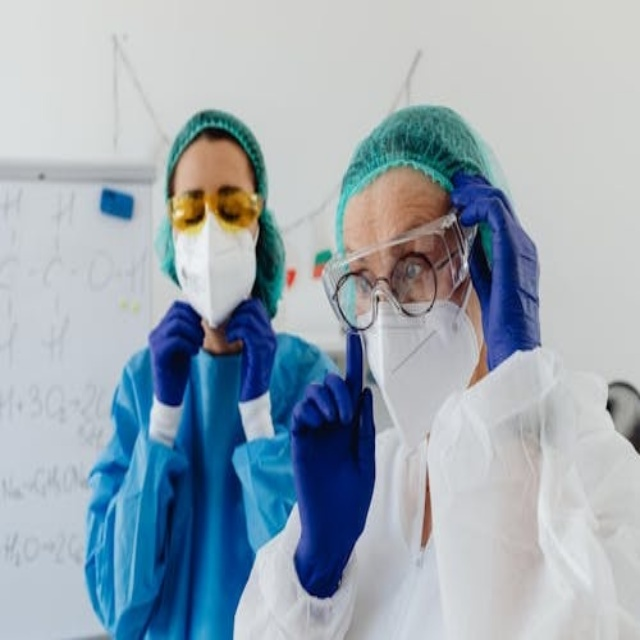Gafas: (322, 211, 475, 332), (168, 187, 263, 232)
Guantes: (290, 329, 378, 598), (451, 167, 542, 373), (148, 298, 205, 415), (226, 296, 278, 405)
Mascara: (357, 267, 482, 454), (173, 210, 258, 328)
